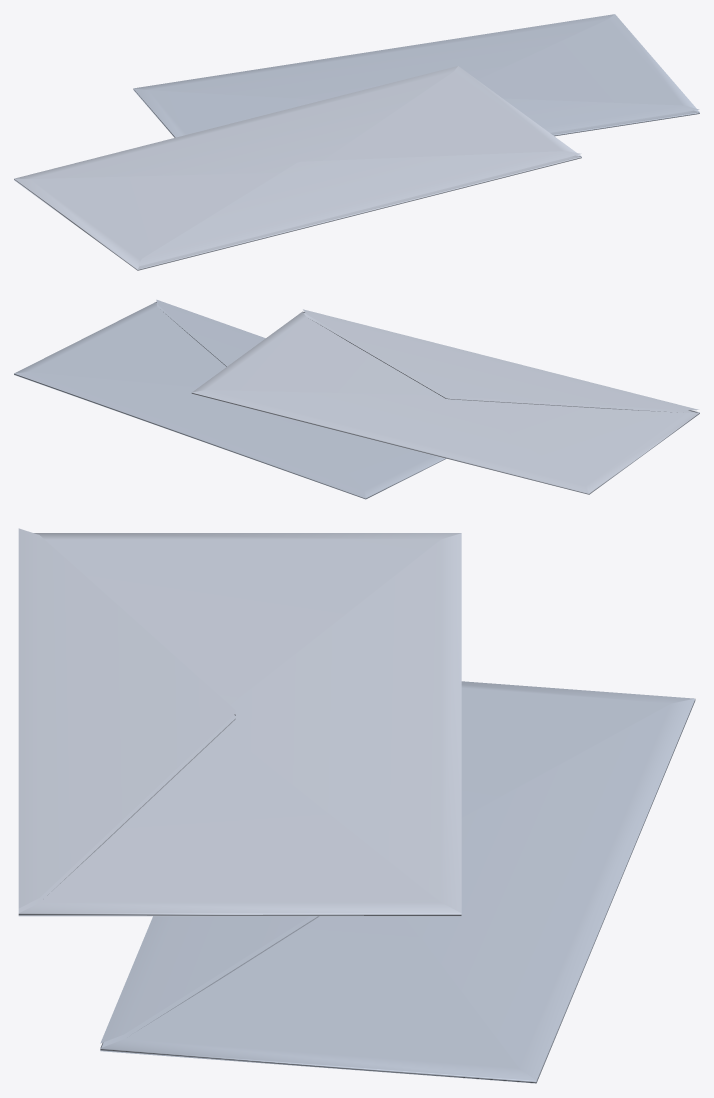
The model's file is Envelope.fbx.
The picture shows the model from 3 angles, top to bottom: view 1: azimuth 30°, elevation 25°; view 2: azimuth 150°, elevation 25°; view 3: azimuth 270°, elevation 25°; orthographic projection. The views are drawn at different scales.
Visible parts, largest first — view 1: Plane02, Plane03, transform1; view 2: Plane02, Plane03, transform1; view 3: Plane02, Plane03, transform1.
Part boxes in pixels (bbox=[...]): Plane02: bbox=[14, 66, 581, 270]; Plane03: bbox=[133, 14, 699, 137]; transform1: bbox=[138, 98, 699, 266]; Plane02: bbox=[191, 311, 699, 494]; Plane03: bbox=[14, 302, 446, 499]; transform1: bbox=[156, 299, 698, 410]; Plane02: bbox=[18, 533, 461, 916]; Plane03: bbox=[100, 681, 695, 1083]; transform1: bbox=[18, 528, 310, 1043].
Bounding box in the file's own units: 246 × 5.2 × 129.
